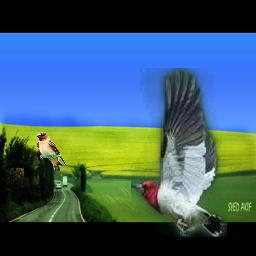Swallow: (36, 133, 67, 172)
Woodpecker: (131, 69, 227, 238)
